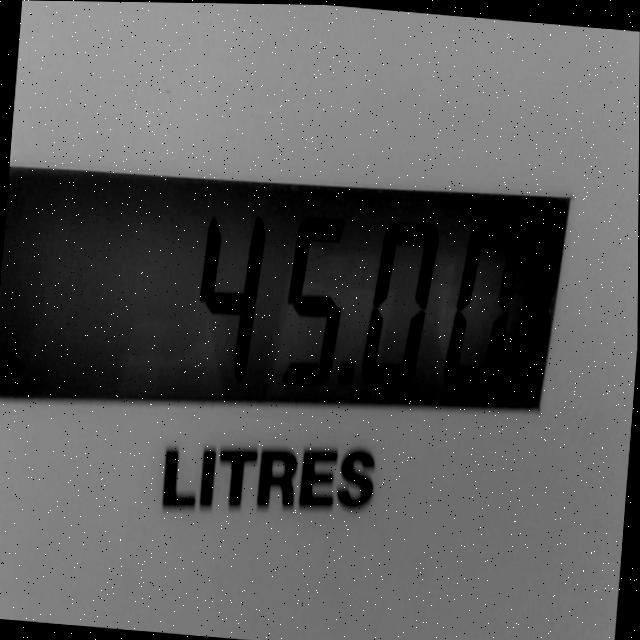.: (323, 335, 369, 398)
0: (436, 223, 527, 417), (359, 211, 445, 415)
4: (181, 213, 269, 382)
5: (277, 204, 351, 393)
